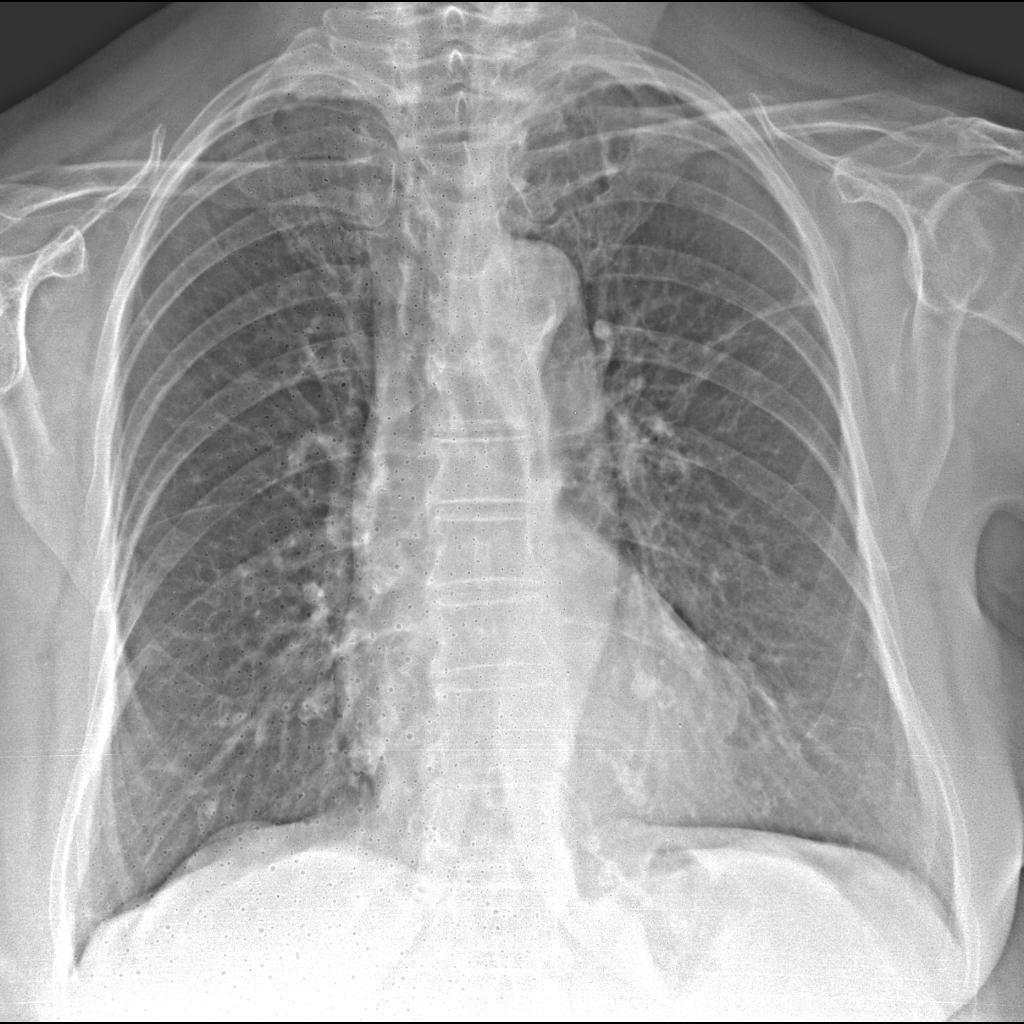Nodule: (620, 657, 673, 714)
